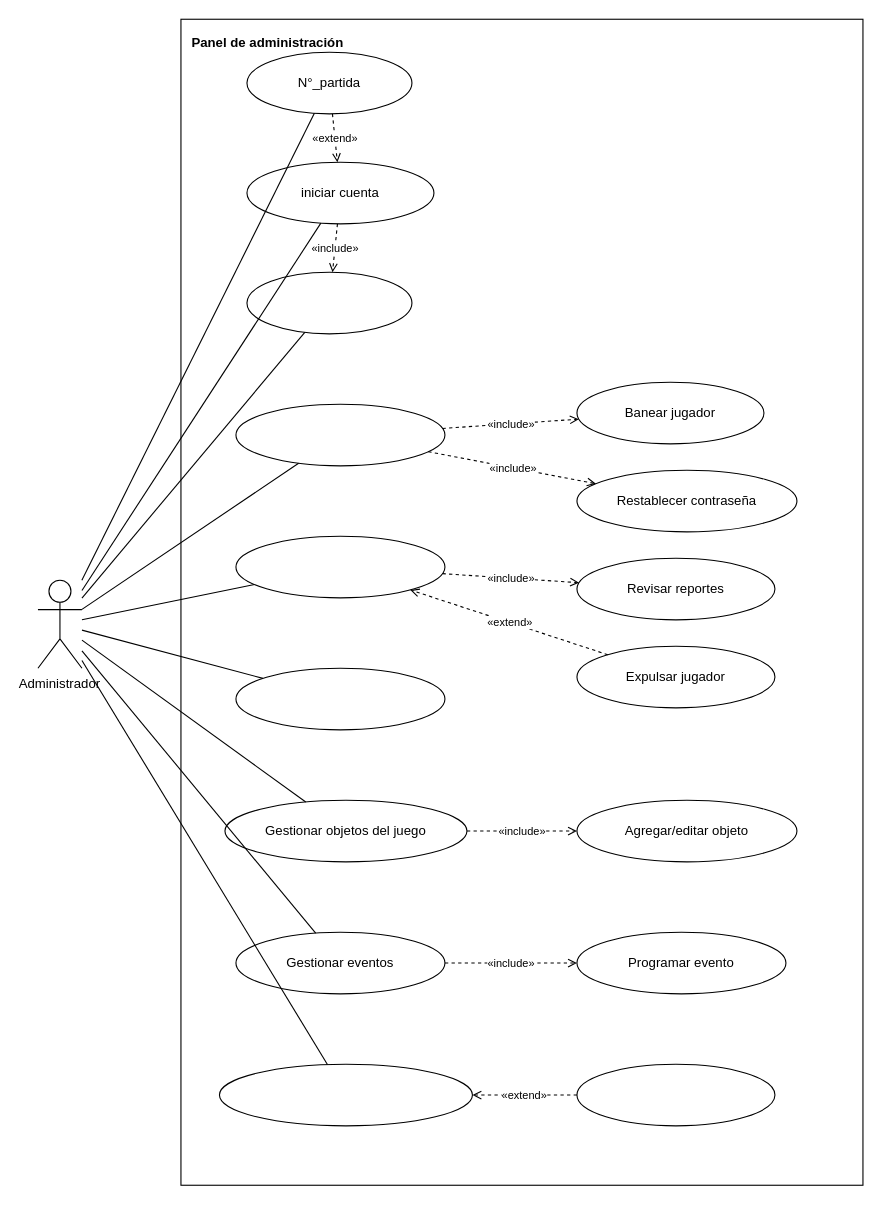
Some shapes in this 882 by 1205 pixel diagram are drawn without their labels. The box of each missing label's shape, as (x1, y1, x2, y2) in pixels:
Ajustar precios: (576, 1063, 775, 1126)
Balancear economía del juego: (218, 1063, 472, 1126)
Configurar servidor: (235, 667, 445, 730)
contraseña: (246, 271, 412, 334)
Gestionar cuentas: (235, 403, 445, 466)
Moderar partidas: (235, 535, 445, 598)
